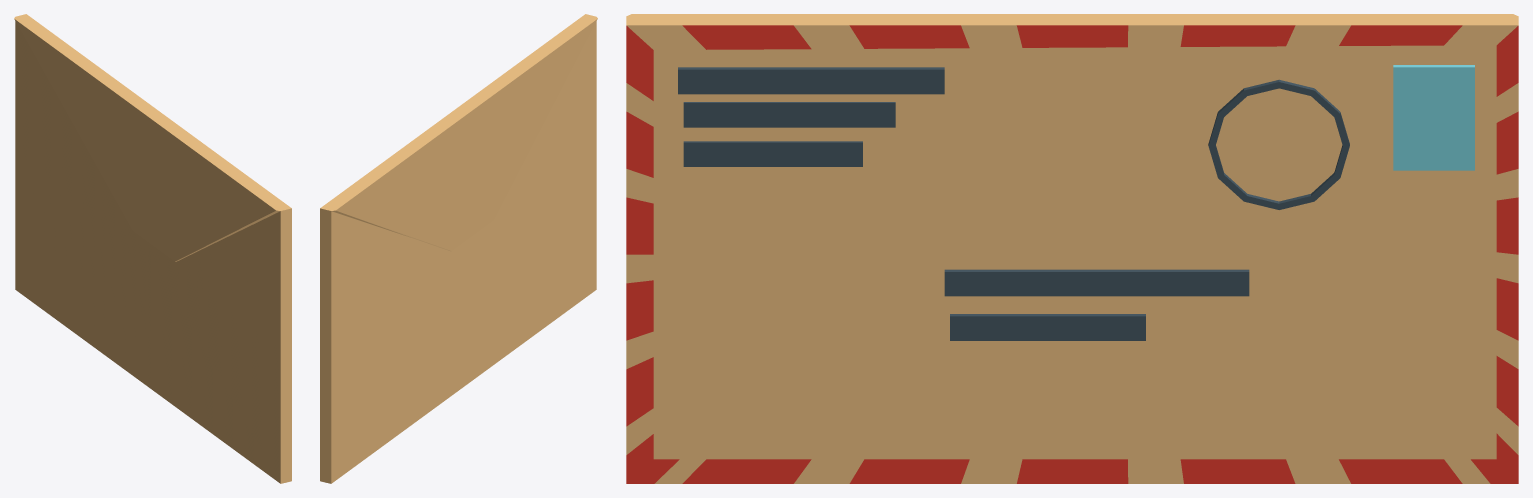
The model's file is Letter.glb.
The picture shows the model from 3 angles, left to right: view 1: azimuth 30°, elevation 25°; view 2: azimuth 150°, elevation 25°; view 3: azimuth 270°, elevation 25°; orthographic projection. The views are drawn at different scales.
Visible parts, largest first — view 1: Node; view 2: Node; view 3: Node.
Boxes of the visible parts, x1,y1,x2,y2 form: Node: (14,14,291,483); Node: (320,14,597,483); Node: (626,14,1518,483).
Size of the model in its own units: 0.06 by 0.93 by 1.64.
